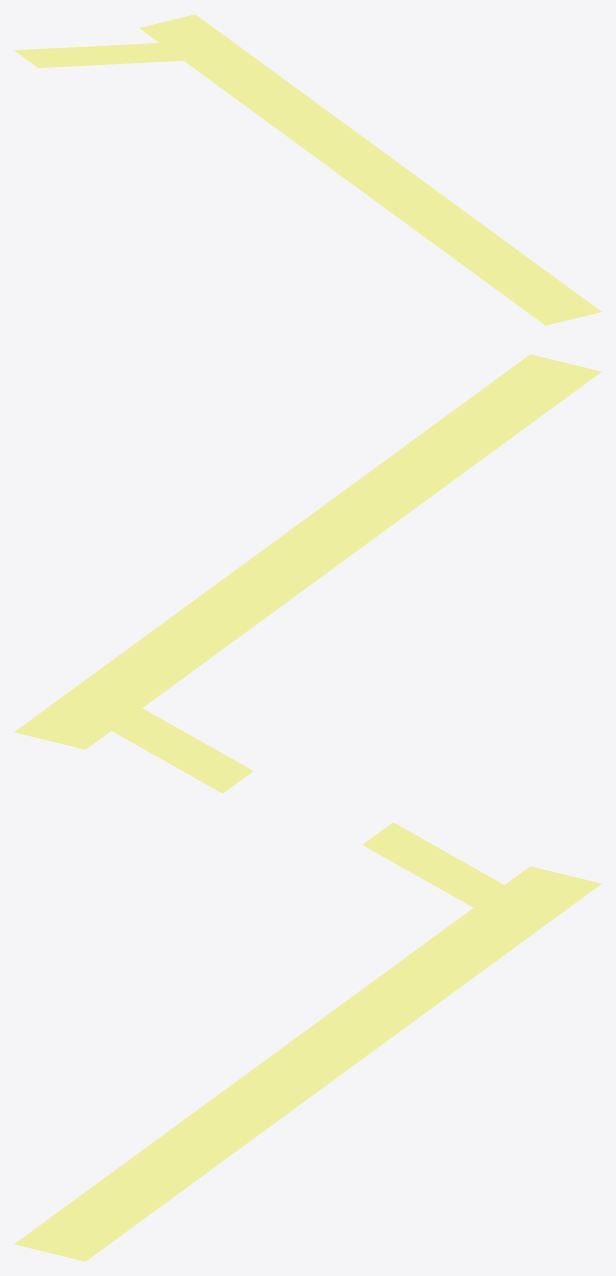
File: 022shemi00250075kts.dae
3 views of the same model, one above another, from view 1: azimuth 30°, elevation 25°; view 2: azimuth 150°, elevation 25°; view 3: azimuth 330°, elevation 25° (orthographic). The views are drawn at different scales.
Visible parts, largest first — view 1: Plane; view 2: Plane; view 3: Plane.
Boxes of the visible parts, <box> form: Plane: <box>15,14,601,325</box>; Plane: <box>15,354,600,793</box>; Plane: <box>15,822,600,1261</box>.
Bounding box in the file's own units: 24.54 × 102 × 0.
